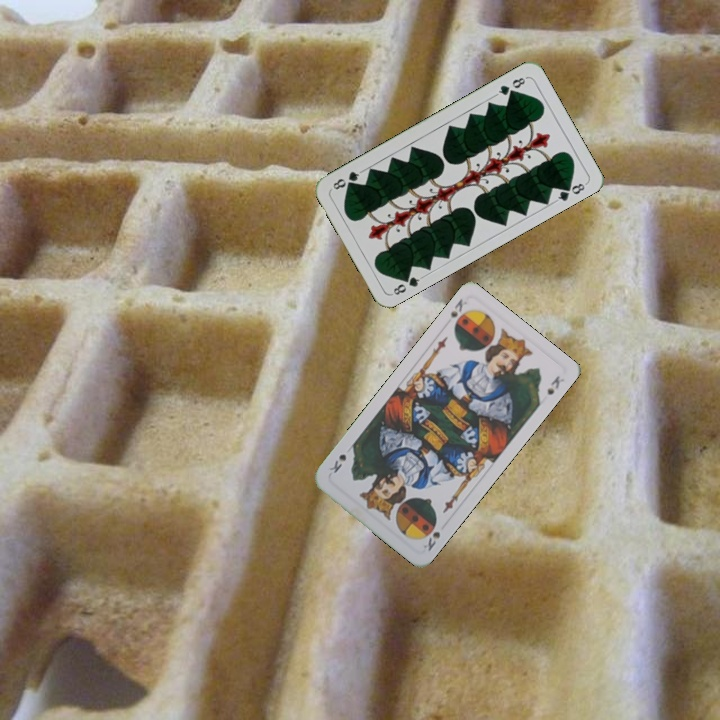G8: (389, 270, 426, 298), (492, 73, 529, 98)
SK: (446, 294, 470, 331), (419, 527, 443, 554)
